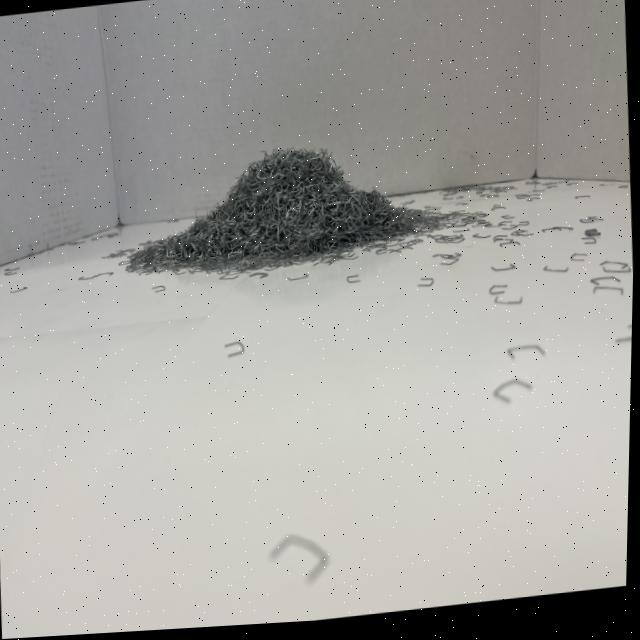staples: (112, 128, 443, 283)
